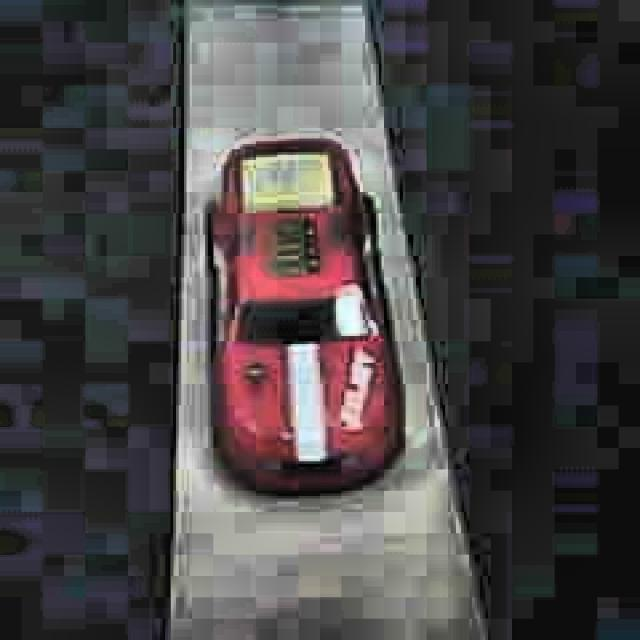car: (203, 136, 409, 503)
